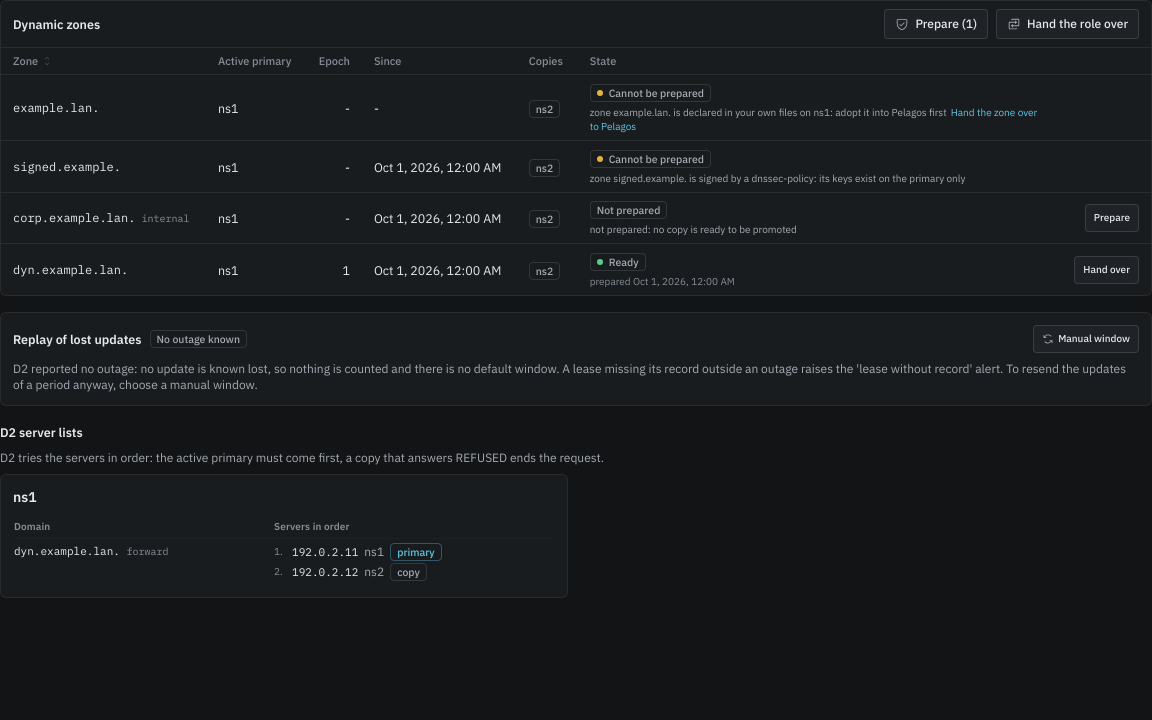
DdnsFailoverPanel › prepares one zone or every preparable zone
What coordinates should you click on to do the following:
click the button with test id "ddns-prepare"
I would click on:
 (1112, 218)
Its box is x1=1085 y1=204 x2=1139 y2=232.
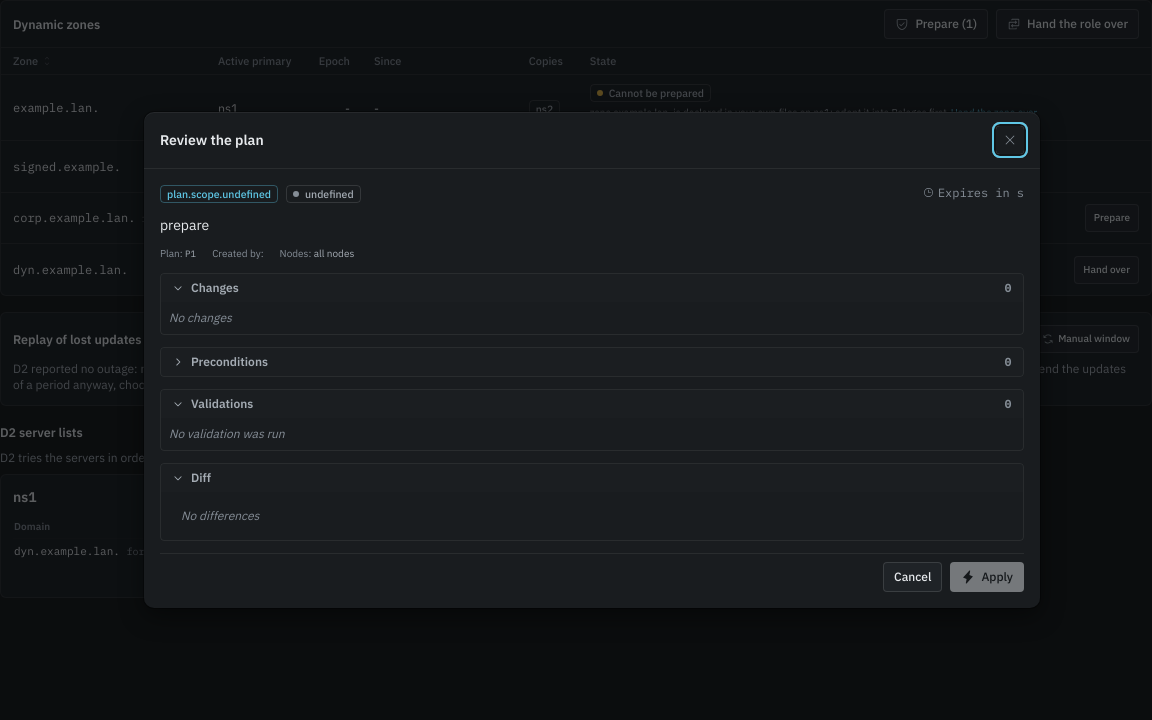
Check: the button with test id "ddns-prepare-all" shows "(1)", box x1=884 y1=9 x2=988 y2=39
Check: the element with test id "plan-preview" shows "prepare", box x1=160 y1=216 x2=209 y2=234
